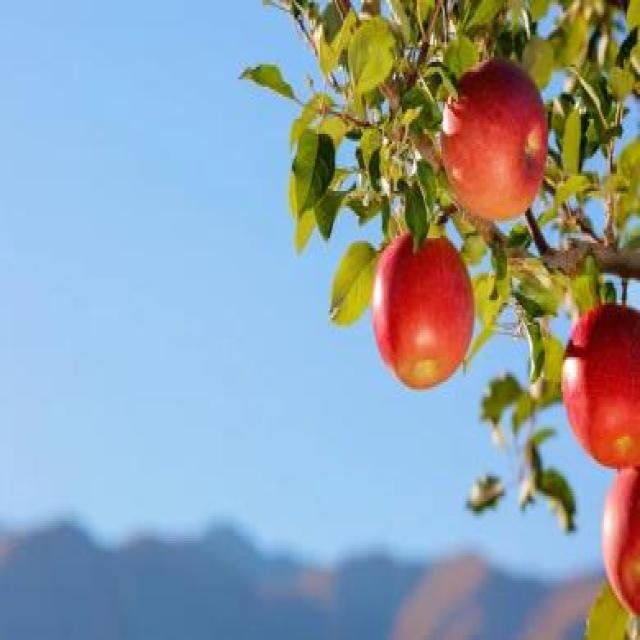fruit: (438, 50, 552, 226), (374, 225, 479, 402), (552, 307, 640, 476), (598, 460, 640, 609)
